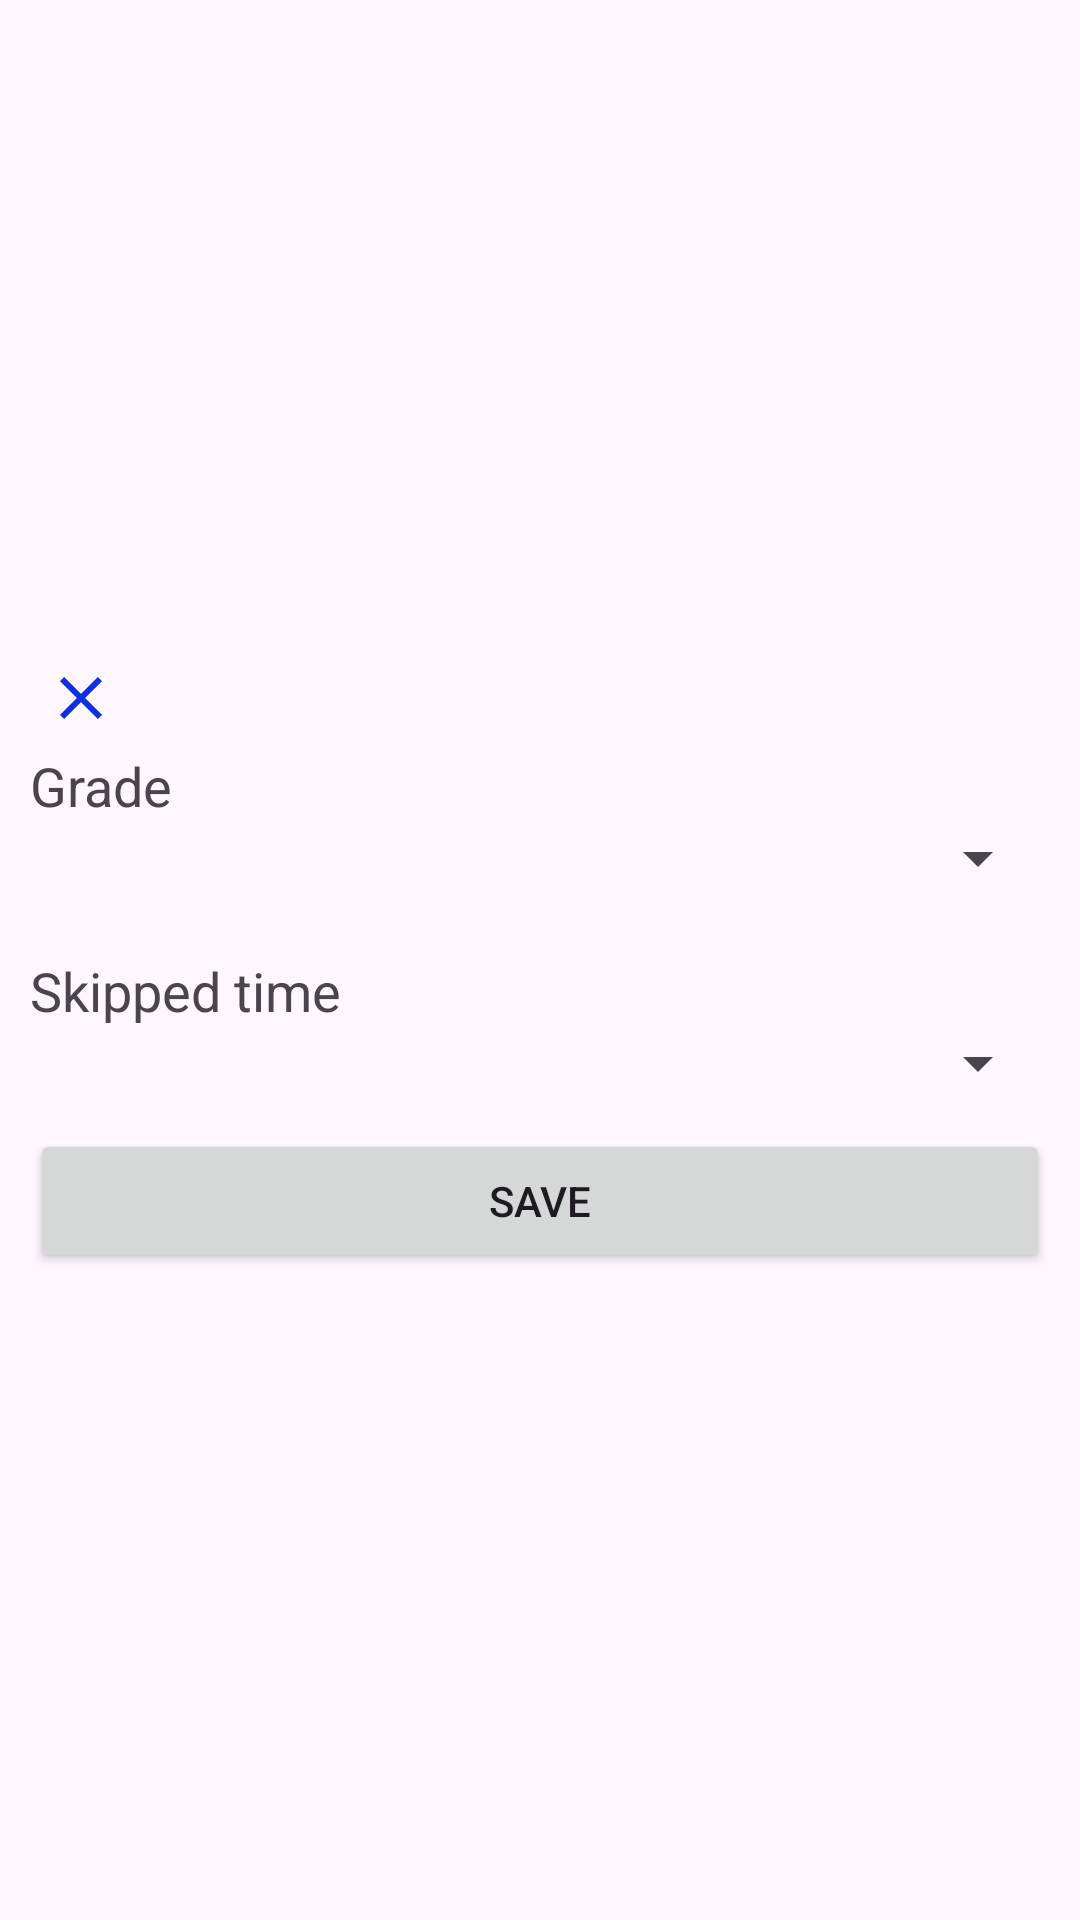

Icon click points for this 1080px x 1920px phone screenshot, format (x=x, y=y):
close: (x=81, y=698)
